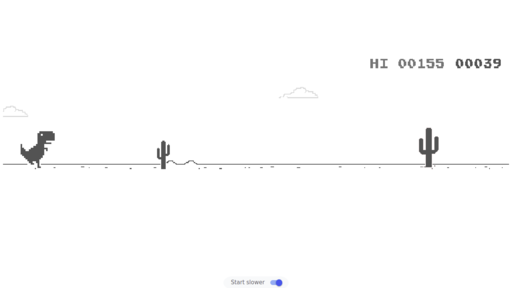dino: (21, 131, 56, 167)
tree: (418, 127, 440, 167), (157, 140, 171, 169)
